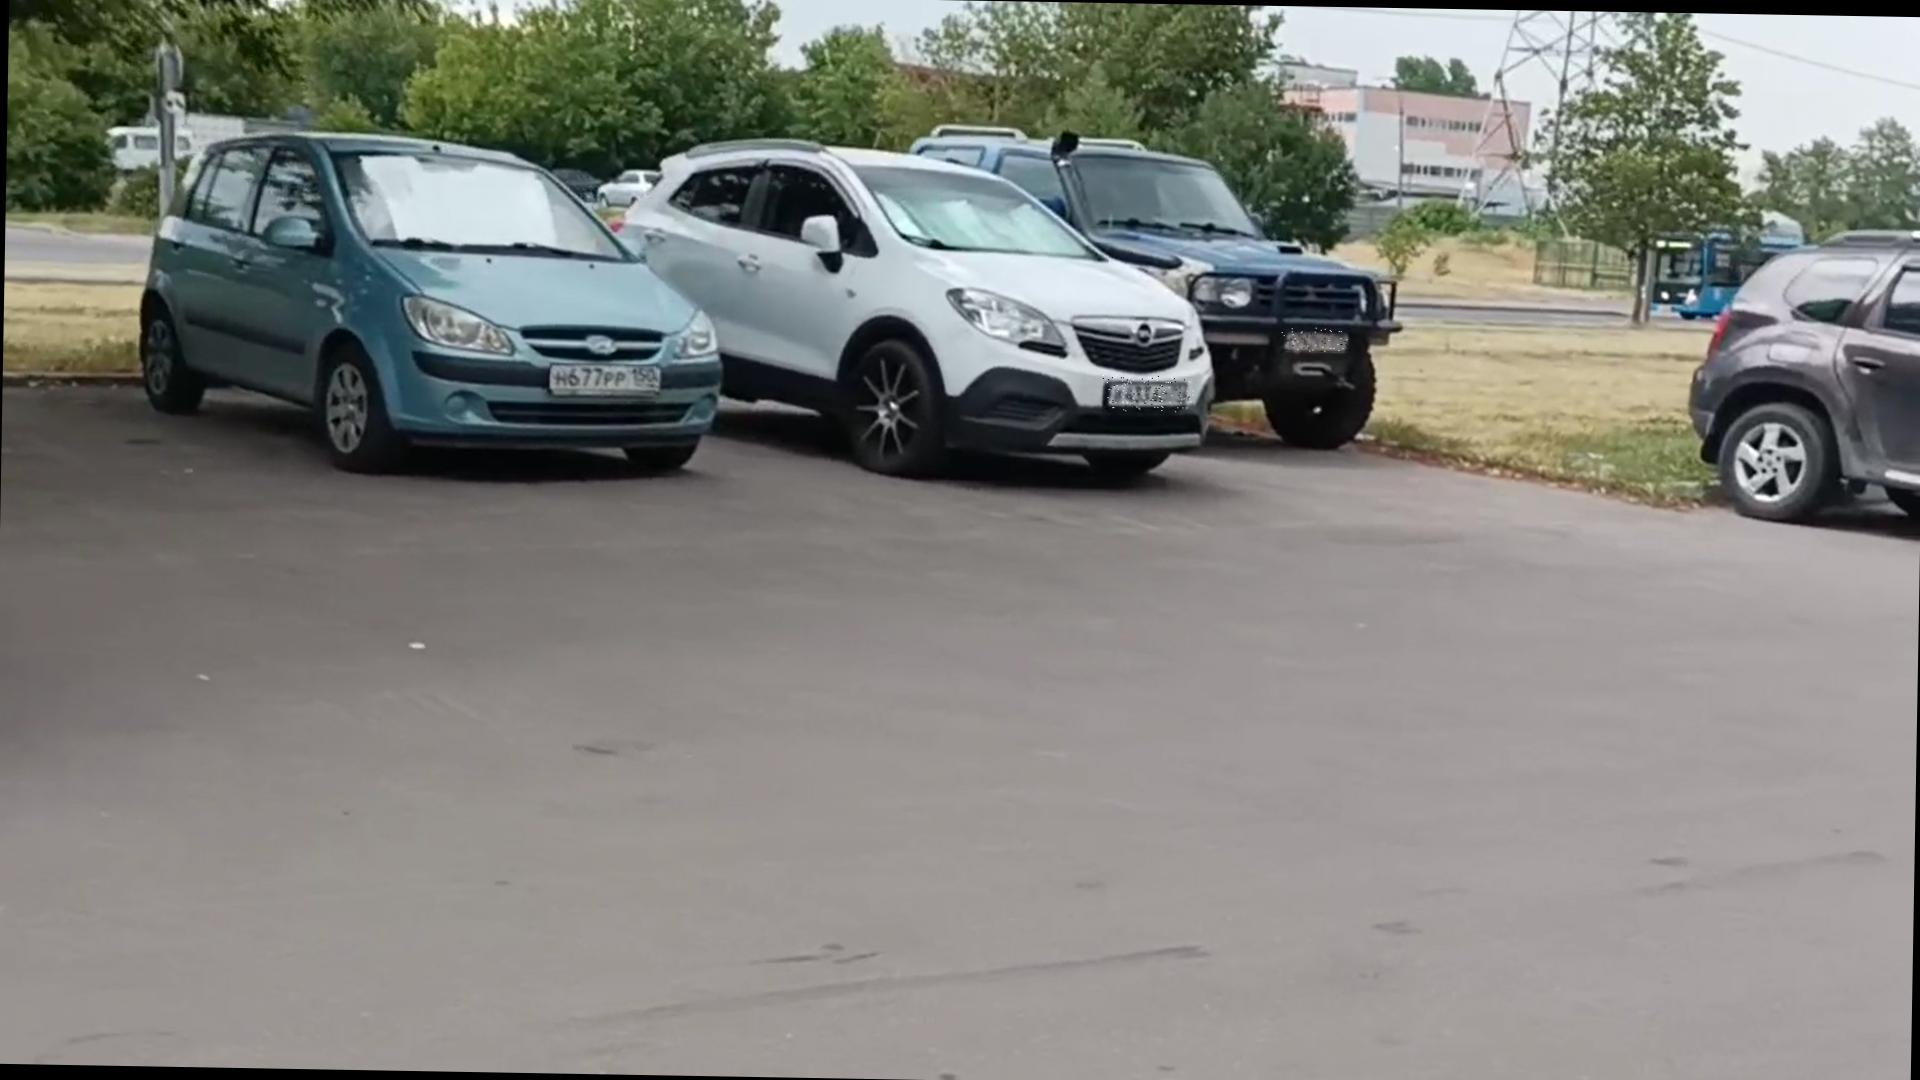plate: (551, 365, 658, 405), (1105, 376, 1196, 414), (1282, 329, 1352, 354)
